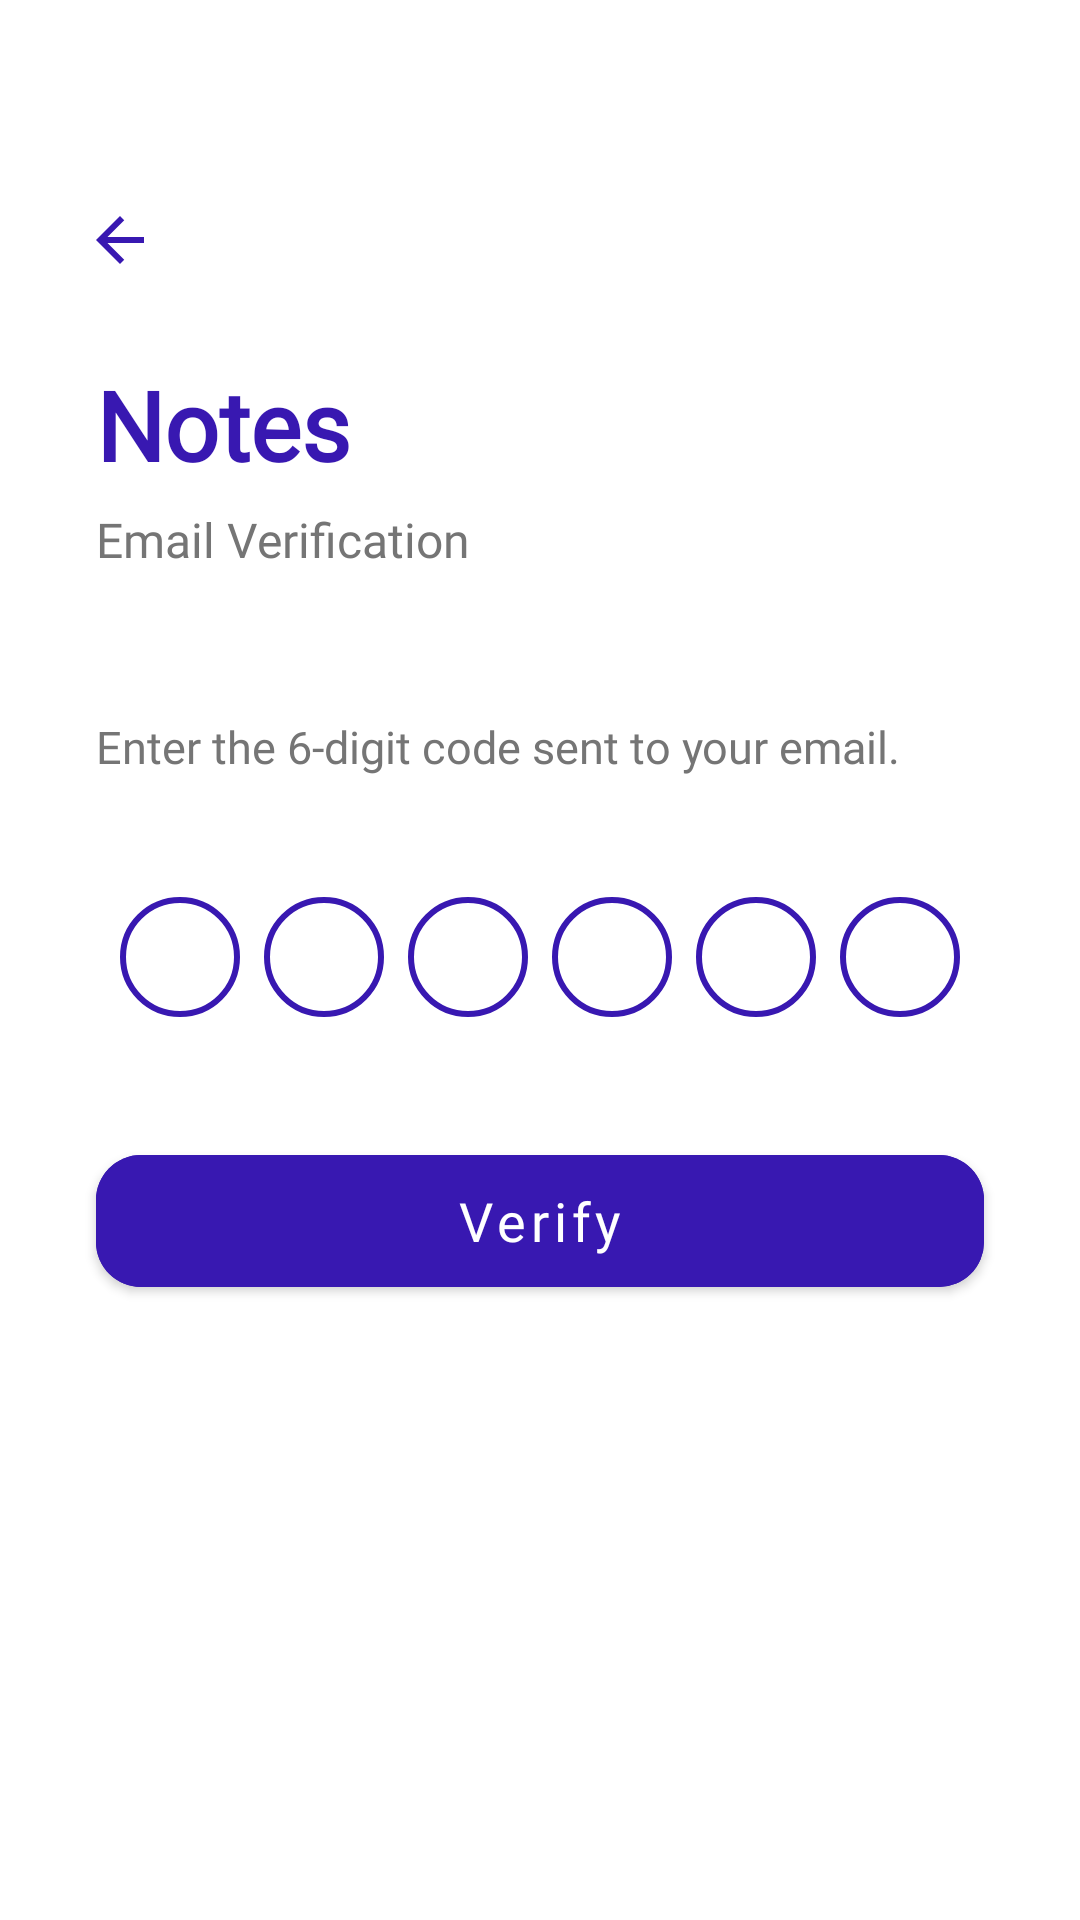

Screen size 1080*1920. Icon name, then its center in pixels as (x=x, y=y):
back: (x=120, y=240)
